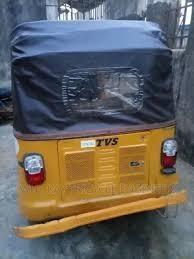keke: (8, 12, 186, 258)
